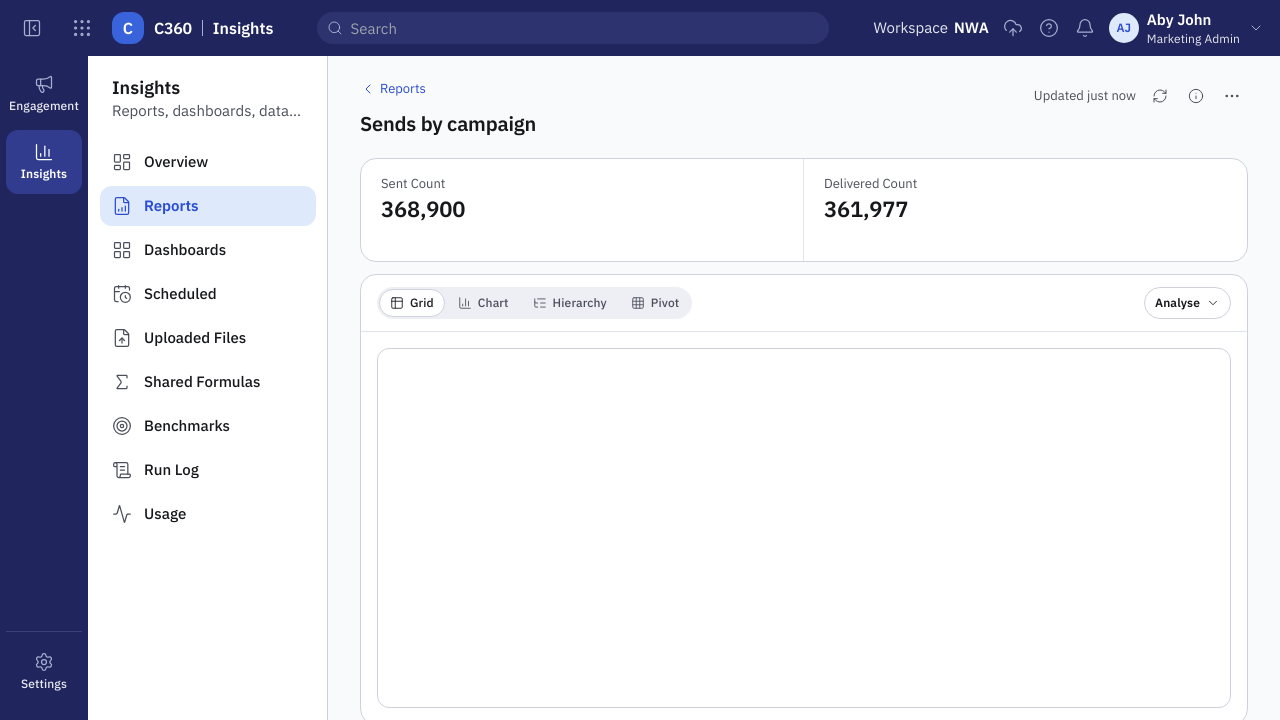
Test: Explain shows What This Means even with the AI switched off, and says how to get a verdict
Expected: the heading "Sends by campaign" is shown, [360,110,536,138]
Click the button named "More actions".
click(1232, 96)  # box [1216,80,1248,112]
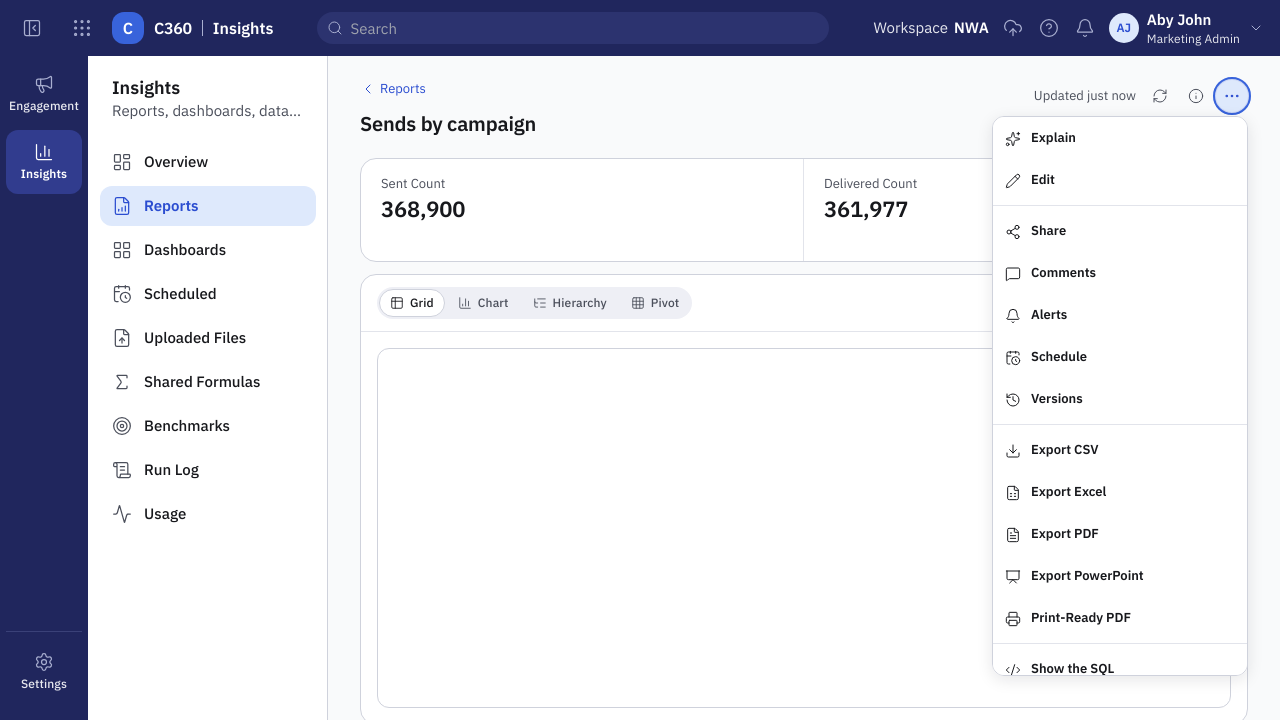
Click the menu item "Explain".
click(1120, 138)  # box [993,117,1247,159]
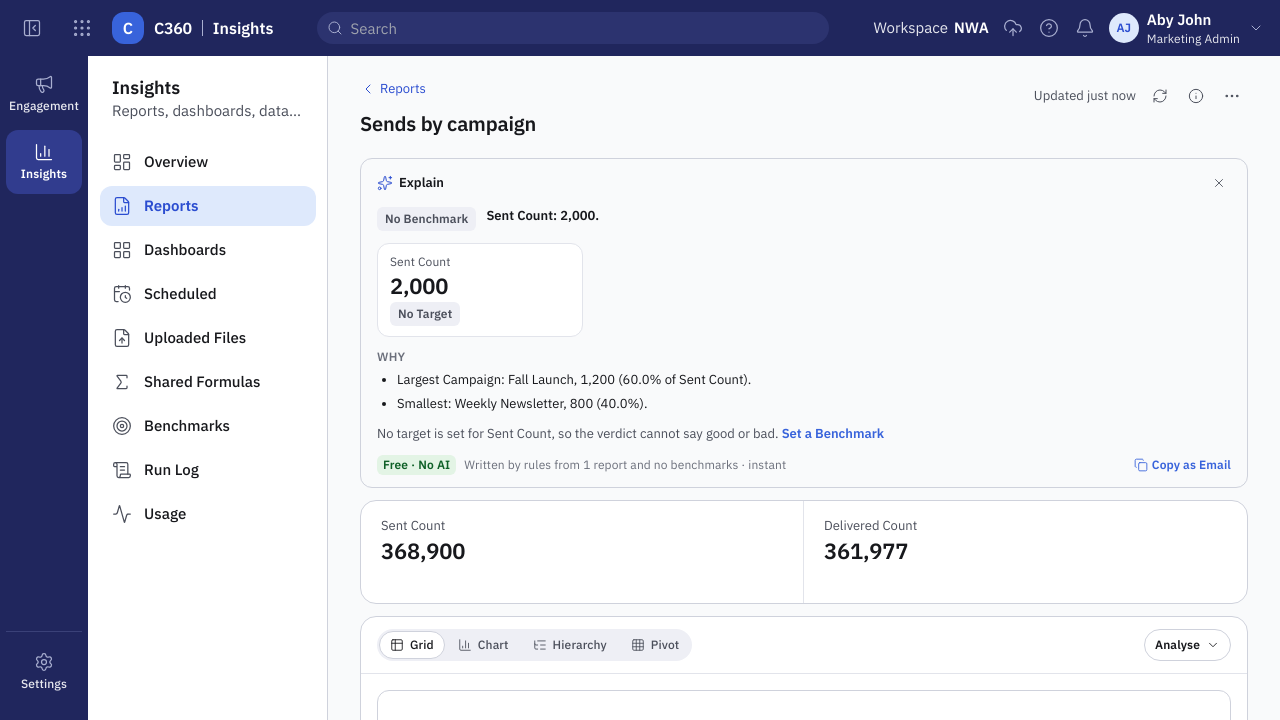
Expected: the text "No Benchmark" is shown, [377,207,476,231]
Expected: the list item "Largest Campaign: Fall Launch, 1,200 (60.0% of Sent Count)." is shown, [397,371,751,388]
Expected: the text "Free · No AI" is shown, [377,455,456,475]
